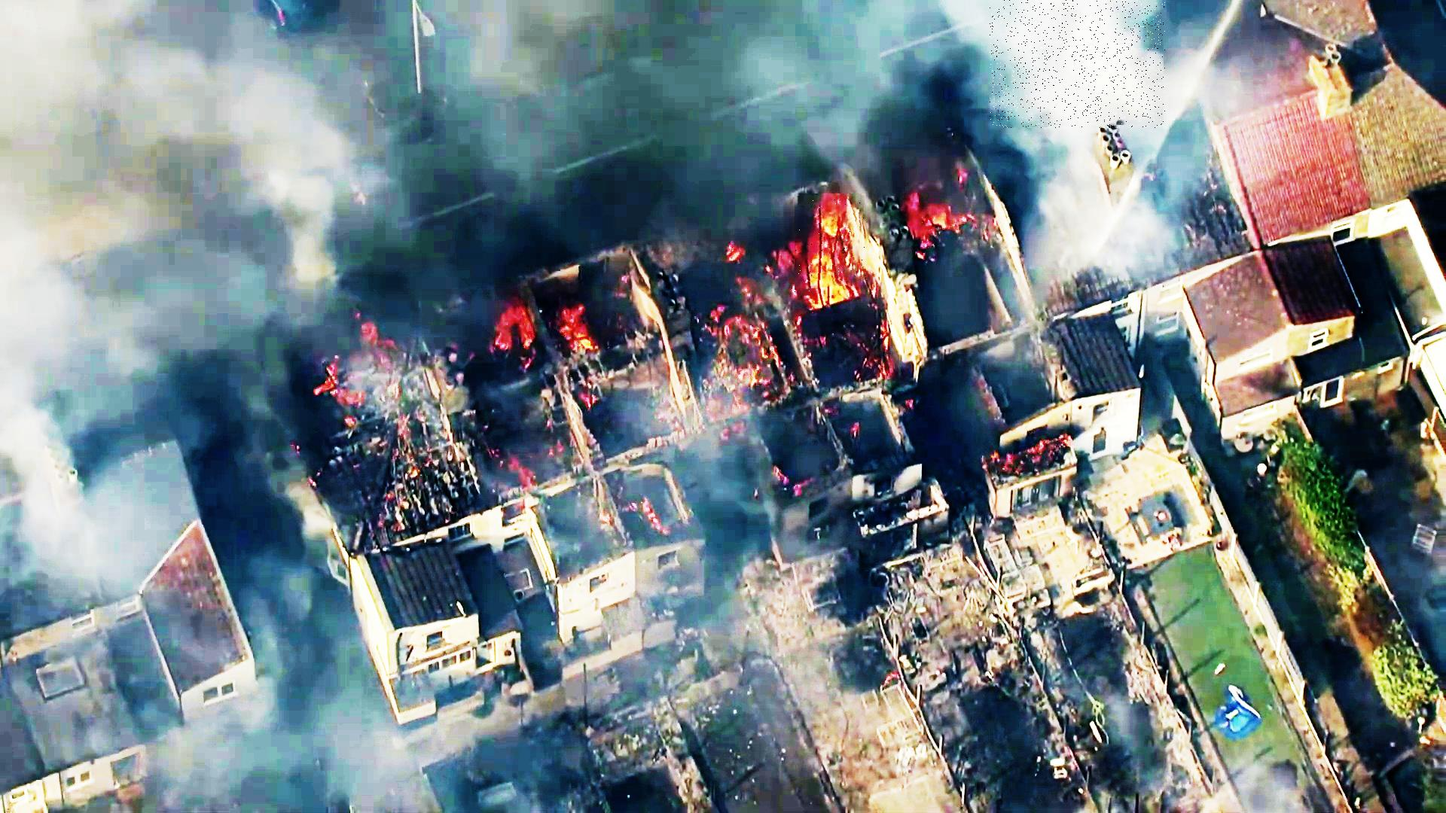fire: (795, 194, 866, 293)
smoke: (990, 0, 1166, 128)
